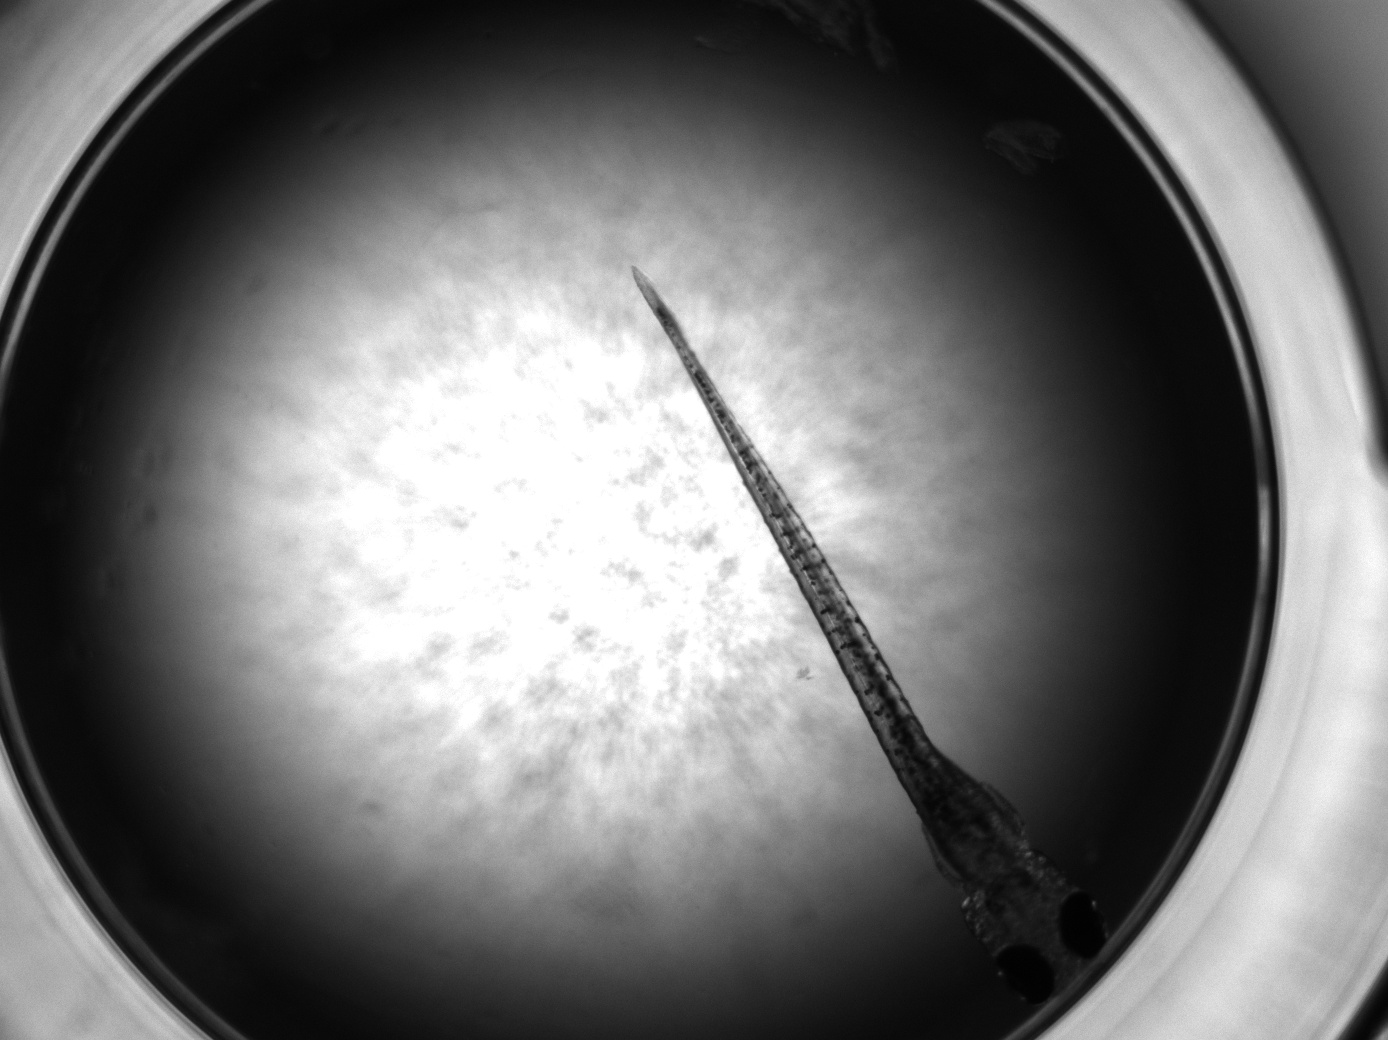embryo: (631, 265, 1112, 1007)
eye: (990, 942, 1057, 1006), (1055, 889, 1110, 960)
yolksac: (898, 748, 1027, 875)
